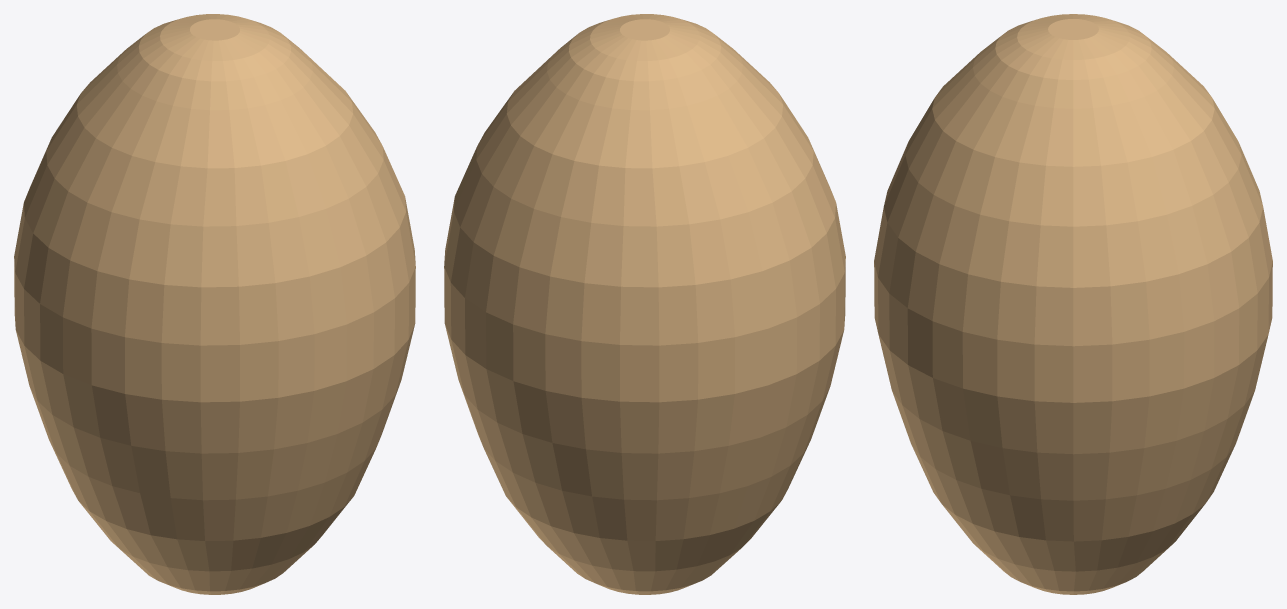
Rendered from CormModel.glb.
3 views of the same model, side by side, from view 1: azimuth 30°, elevation 25°; view 2: azimuth 150°, elevation 25°; view 3: azimuth 270°, elevation 25° (orthographic).
Visible parts, largest first — view 1: Sphere; view 2: Sphere; view 3: Sphere.
Boxes of the visible parts, left/top/right/bottom form: Sphere: left=14, top=14, right=415, bottom=594; Sphere: left=444, top=14, right=845, bottom=594; Sphere: left=874, top=14, right=1272, bottom=594.
Bounding box in the file's own units: 2.42 × 3.58 × 2.39.
Materials: 1 (1 with a texture image).
